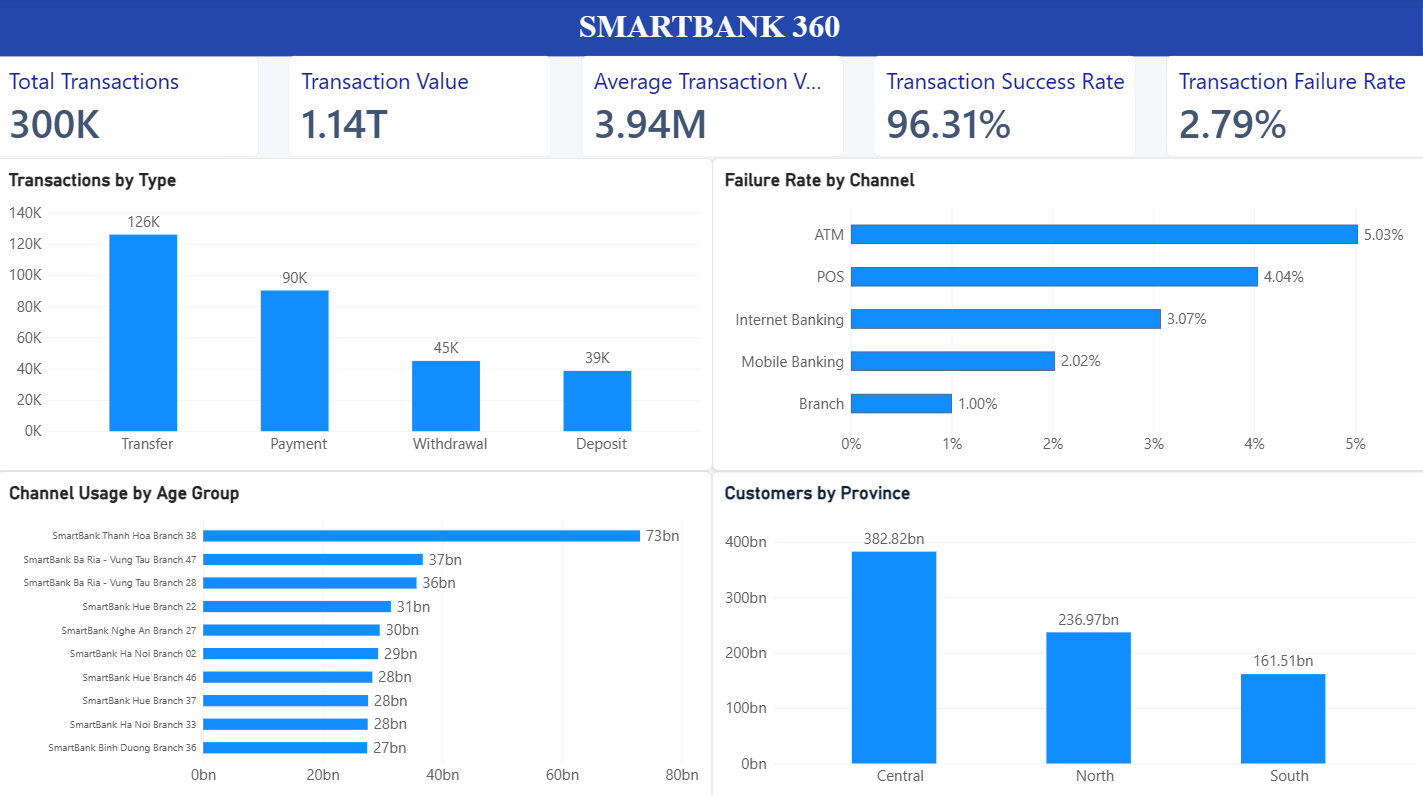

What the dashboard file says about the page in this screenshot:
{"tool":"powerbi","page":{"name":"Transaction & Branch Performance","canvas":[1920,1080],"ordinal":2},"visuals":[{"type":"cardVisual","fields":{"Data":["KPI_Measures.Total Transactions"]},"box":[0,79.5,352.3,136.4],"z":0},{"type":"shape","box":[0,0,1920.4,80],"z":1000},{"type":"textbox","box":[0,15,1920,63],"z":2000},{"type":"clusteredColumnChart","title":"Customers by Province","fields":{"Category":["branches.region"],"Y":["KPI_Measures.Transaction Value"]},"box":[960.2,634.4,960.2,445.1],"z":3000},{"type":"cardVisual","fields":{"Data":["KPI_Measures.Transaction Value"]},"box":[392,79.5,352.3,136.4],"z":4000},{"type":"cardVisual","fields":{"Data":["KPI_Measures.Average Transaction Value"]},"box":[784.1,79.5,352.3,136.4],"z":5000},{"type":"cardVisual","fields":{"Data":["KPI_Measures.Transaction Success Rate"]},"box":[1176.1,79.5,352.3,136.4],"z":6000},{"type":"cardVisual","fields":{"Data":["KPI_Measures.Transaction Failure Rate"]},"box":[1568.1,79.5,352.3,136.4],"z":7000},{"type":"clusteredBarChart","title":"Failure Rate by Channel","fields":{"Category":["transactions.transaction_channel"],"Y":["KPI_Measures.Transaction Failure Rate"]},"box":[960.2,215.9,960.2,418.5],"z":8000},{"type":"clusteredBarChart","title":"Channel Usage by Age Group","fields":{"Category":["branches.branch_name"],"Y":["KPI_Measures.Transaction Value"]},"box":[0,634.4,960.2,445.1],"z":9000},{"type":"clusteredColumnChart","title":"Transactions by Type","fields":{"Category":["transactions.transaction_type"],"Y":["KPI_Measures.Total Transactions"]},"box":[0,215.9,960.2,418.5],"z":10000},{"type":"slicer","title":"Customer Segment","fields":{"Values":["customers.customer_segment"]},"box":[418.5,628.8,299.2,90.9],"z":10001},{"type":"slicer","title":"Region","fields":{"Values":["branches.region"]},"box":[717.8,661,299.2,89],"z":10002}]}

Visuals, with their boxes in screenshot pixels (x1, y1, x2, y2), scaled from the page's 1920x1080 canvas onto the 1423x795 screenshot:
cardVisual - KPI_Measures.Total Transactions: (left=0, top=59, right=261, bottom=159)
shape: (left=0, top=0, right=1422, bottom=59)
textbox: (left=0, top=11, right=1422, bottom=57)
"Customers by Province" clusteredColumnChart: (left=712, top=467, right=1422, bottom=794)
cardVisual - KPI_Measures.Transaction Value: (left=291, top=59, right=552, bottom=159)
cardVisual - KPI_Measures.Average Transaction Value: (left=581, top=59, right=842, bottom=159)
cardVisual - KPI_Measures.Transaction Success Rate: (left=872, top=59, right=1133, bottom=159)
cardVisual - KPI_Measures.Transaction Failure Rate: (left=1162, top=59, right=1422, bottom=159)
"Failure Rate by Channel" clusteredBarChart: (left=712, top=159, right=1422, bottom=467)
"Channel Usage by Age Group" clusteredBarChart: (left=0, top=467, right=712, bottom=794)
"Transactions by Type" clusteredColumnChart: (left=0, top=159, right=712, bottom=467)
"Customer Segment" slicer: (left=310, top=463, right=532, bottom=530)
"Region" slicer: (left=532, top=487, right=754, bottom=552)
